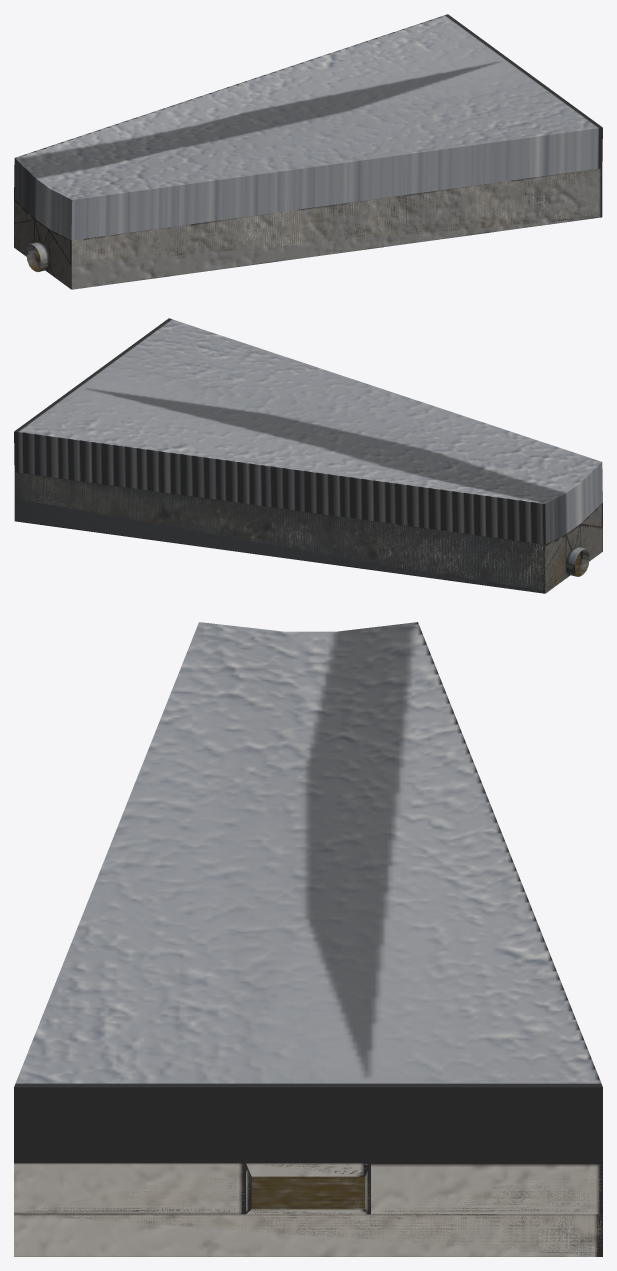
The picture shows the model from 3 angles, top to bottom: view 1: azimuth 30°, elevation 25°; view 2: azimuth 150°, elevation 25°; view 3: azimuth 270°, elevation 25°; orthographic projection. The views are drawn at different scales.
Parts seen in each view (by area): view 1: L1R2_outside, L1R2_walls; view 2: L1R2_outside, L1R2_walls; view 3: L1R2_outside, L1R2_walls, L1R2_floor.
Part boxes in pixels (x1,y1,x2,y2): L1R2_outside: (14,14,602,289); L1R2_walls: (14,168,602,288); L1R2_outside: (14,318,602,593); L1R2_walls: (14,472,600,592); L1R2_outside: (14,622,602,1256); L1R2_walls: (22,1163,602,1256); L1R2_floor: (251,1176,365,1209).
Bounding box in the file's own units: 8237 × 1588 × 4500.
4 materials, 4 textured.
